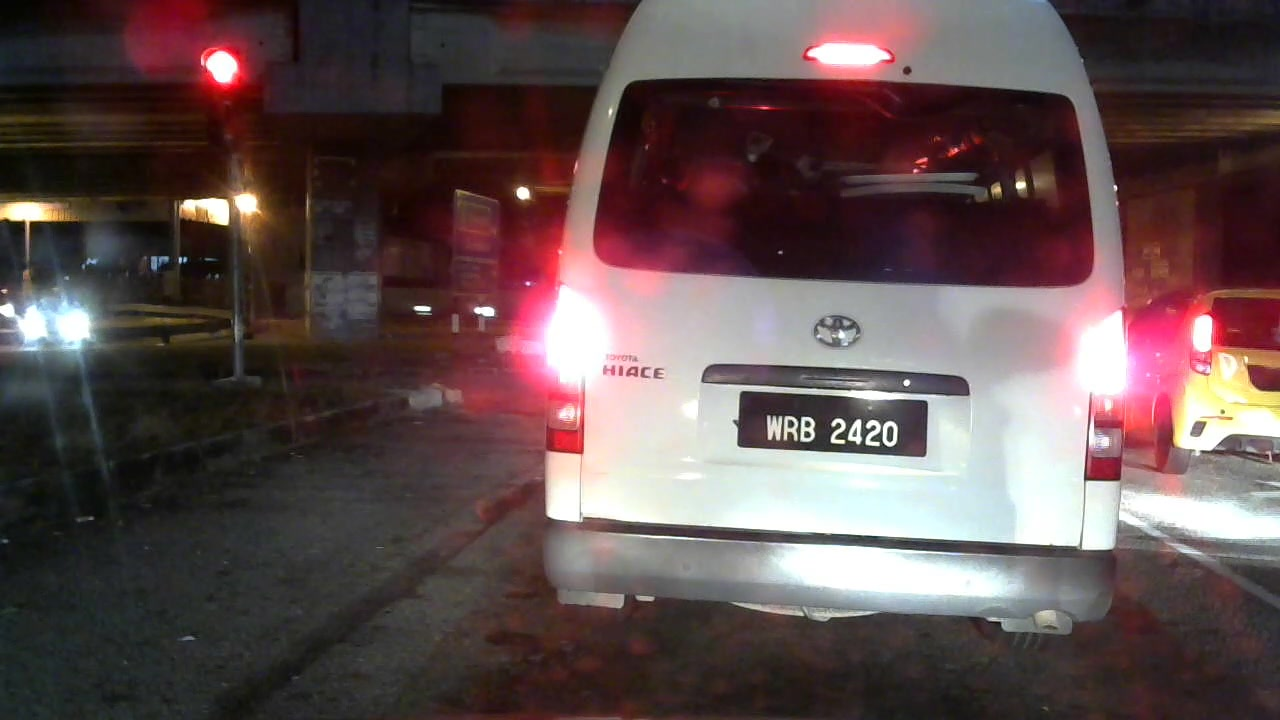Car: (1131, 267, 1280, 486), (14, 272, 97, 353)
